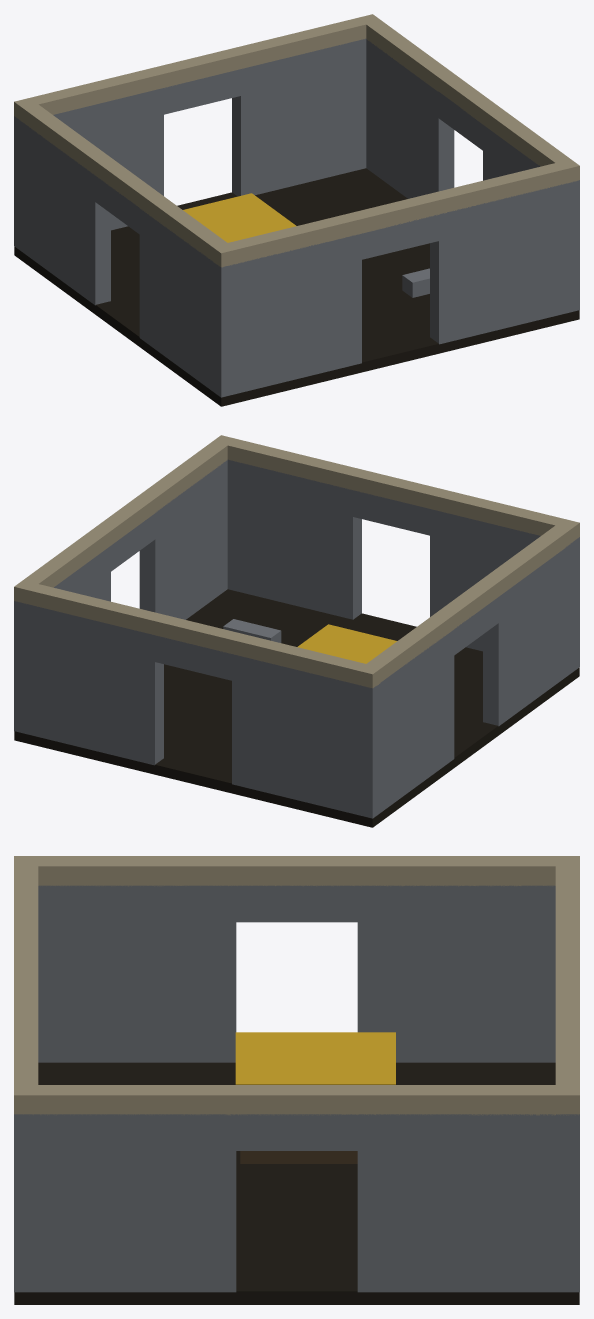
The model's file is RoyalBedchamber.fbx.
3 views of the same model, one above another, from view 1: azimuth 30°, elevation 25°; view 2: azimuth 150°, elevation 25°; view 3: azimuth 270°, elevation 25° (orthographic). The views are drawn at different scales.
Parts seen in each view (by area): view 1: RoyalBedchamber; view 2: RoyalBedchamber; view 3: RoyalBedchamber.
Boxes of the visible parts, x1,y1,x2,y2 form: RoyalBedchamber: (14, 14, 579, 406); RoyalBedchamber: (14, 435, 579, 827); RoyalBedchamber: (14, 856, 579, 1304).
Size of the model in its own units: 1202 by 492 by 1202.
5 materials, 5 textured.
